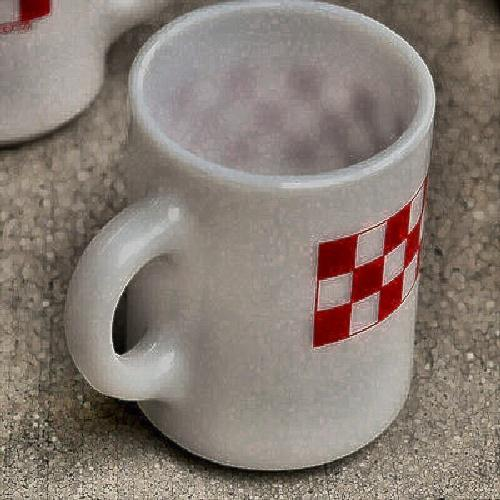mug: (80, 10, 446, 478)
